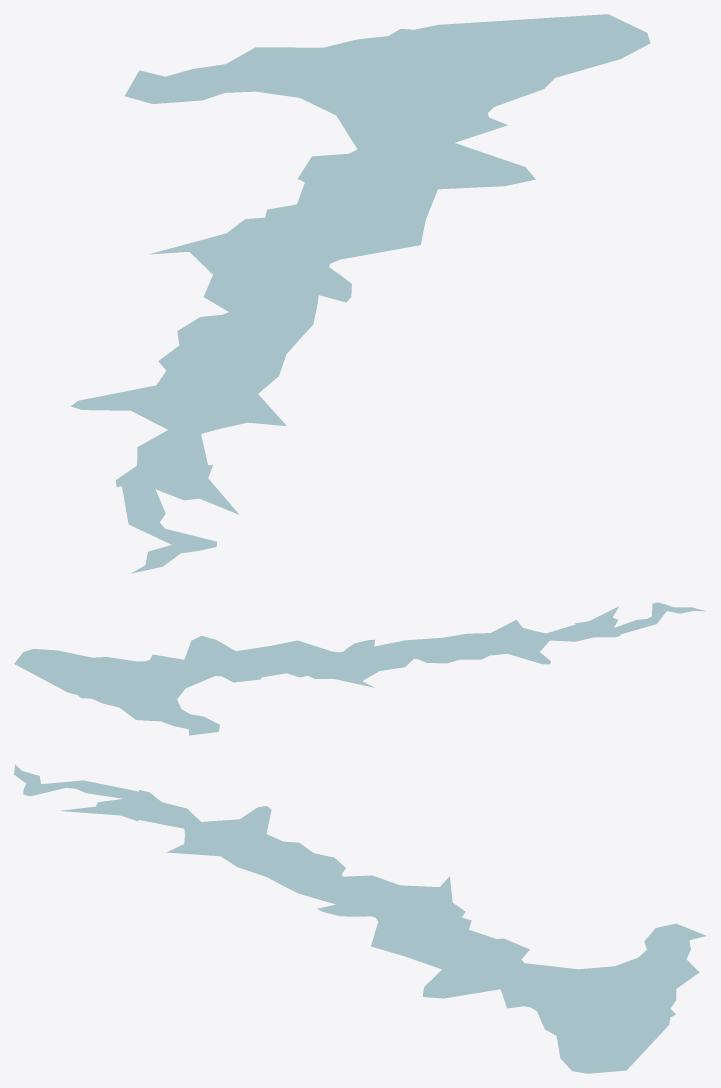
File: deepcreek3.glb
The picture shows the model from 3 angles, top to bottom: view 1: azimuth 30°, elevation 25°; view 2: azimuth 150°, elevation 25°; view 3: azimuth 270°, elevation 25°; orthographic projection. The views are drawn at different scales.
Parts seen in each view (by area): view 1: deepcreek; view 2: deepcreek; view 3: deepcreek.
Boxes of the visible parts, <box> form: deepcreek: <box>71,14,650,573</box>; deepcreek: <box>14,602,705,735</box>; deepcreek: <box>14,764,706,1073</box>.
Bounding box in the file's own units: 1.49 × 0 × 1.41.
